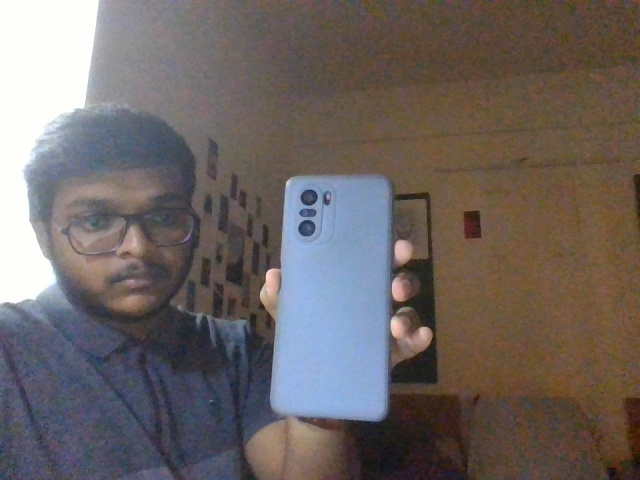Phone: (269, 174, 390, 422)
